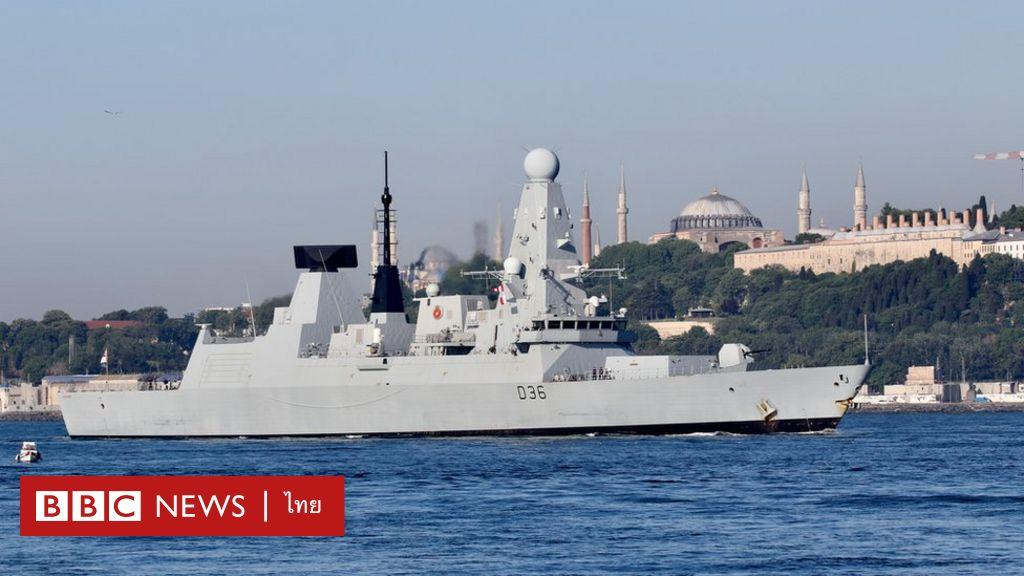Warship: (56, 146, 878, 446)
